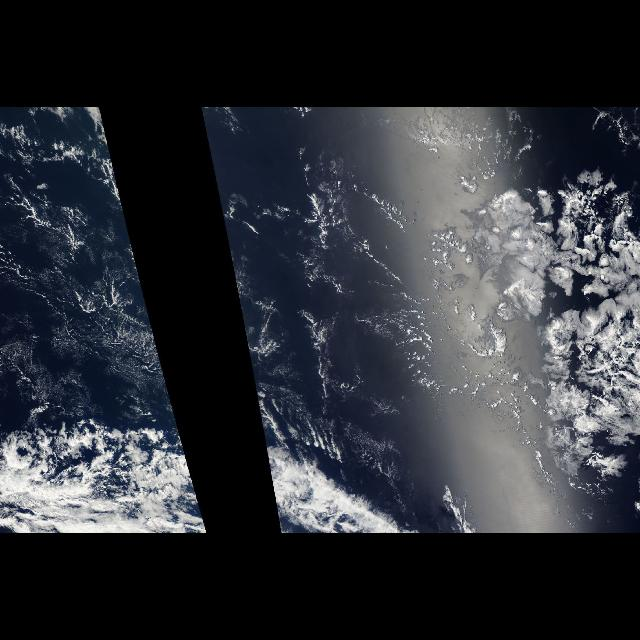Fish: (459, 170, 639, 498)
Gravel: (205, 122, 468, 482), (12, 122, 194, 482)
